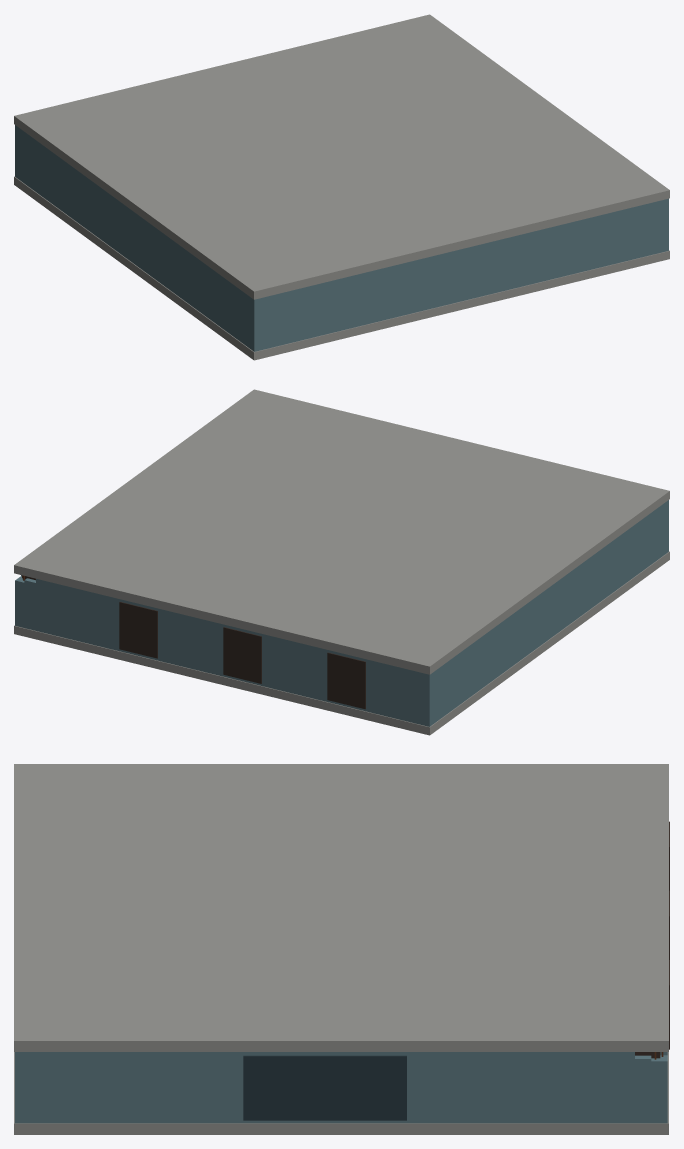
Rendered from tw_glass_24_floor_c_lod1.glb.
3 views of the same model, one above another, from view 1: azimuth 30°, elevation 25°; view 2: azimuth 150°, elevation 25°; view 3: azimuth 270°, elevation 25° (orthographic). The views are drawn at different scales.
Visible parts, largest first — view 1: tw_glass_24_floor_c_lod1; view 2: tw_glass_24_floor_c_lod1; view 3: tw_glass_24_floor_c_lod1.
Part boxes in pixels (x1,y1,x2,y2): tw_glass_24_floor_c_lod1: [14, 14, 669, 360]; tw_glass_24_floor_c_lod1: [14, 389, 669, 735]; tw_glass_24_floor_c_lod1: [14, 764, 669, 1134].
Bounding box in the file's own units: 24.04 × 3.8 × 24.04.
2 materials, 2 textured.
